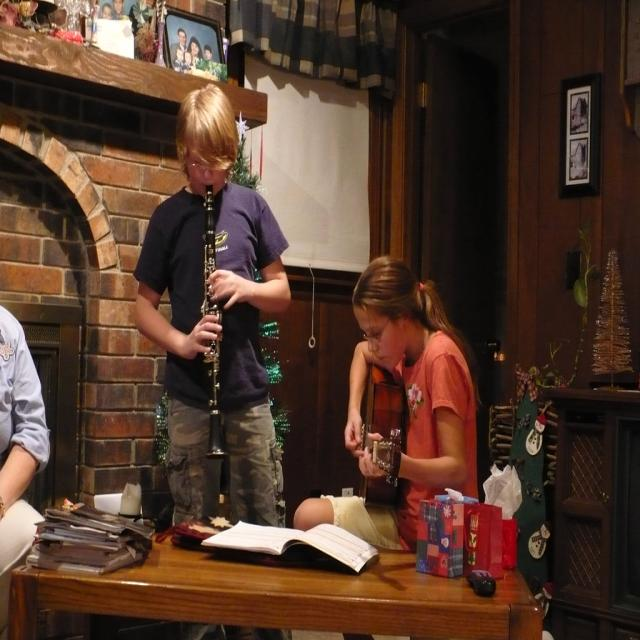clarinet: (201, 176, 230, 462)
guitar: (358, 357, 402, 508)
